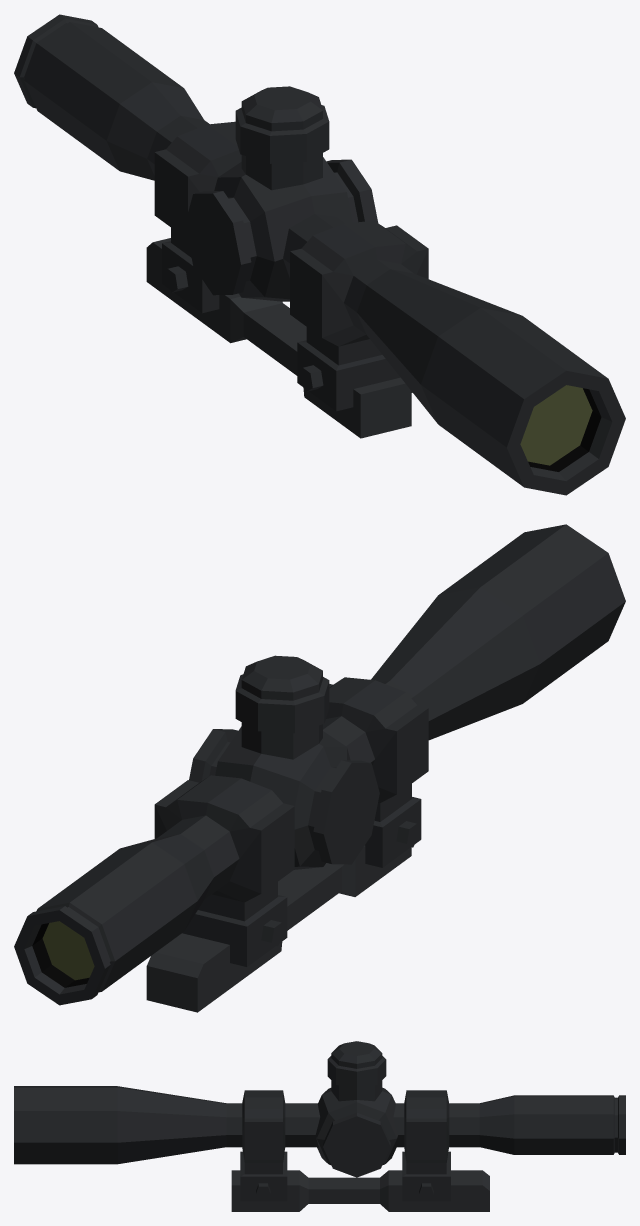
The model's file is SM_Wep_Attach_Scope_01.fbx.
The picture shows the model from 3 angles, top to bottom: view 1: azimuth 30°, elevation 25°; view 2: azimuth 150°, elevation 25°; view 3: azimuth 270°, elevation 25°; orthographic projection. The views are drawn at different scales.
Parts seen in each view (by area): view 1: SM_Wep_Attach_Scope_01; view 2: SM_Wep_Attach_Scope_01; view 3: SM_Wep_Attach_Scope_01.
Part boxes in pixels (x1,y1,x2,y2): SM_Wep_Attach_Scope_01: (14,14,625,495); SM_Wep_Attach_Scope_01: (14,524,625,1012); SM_Wep_Attach_Scope_01: (14,1041,625,1211).
Bounding box in the file's own units: 7.57 × 13.46 × 47.91.
Materials: 1 (1 with a texture image).
